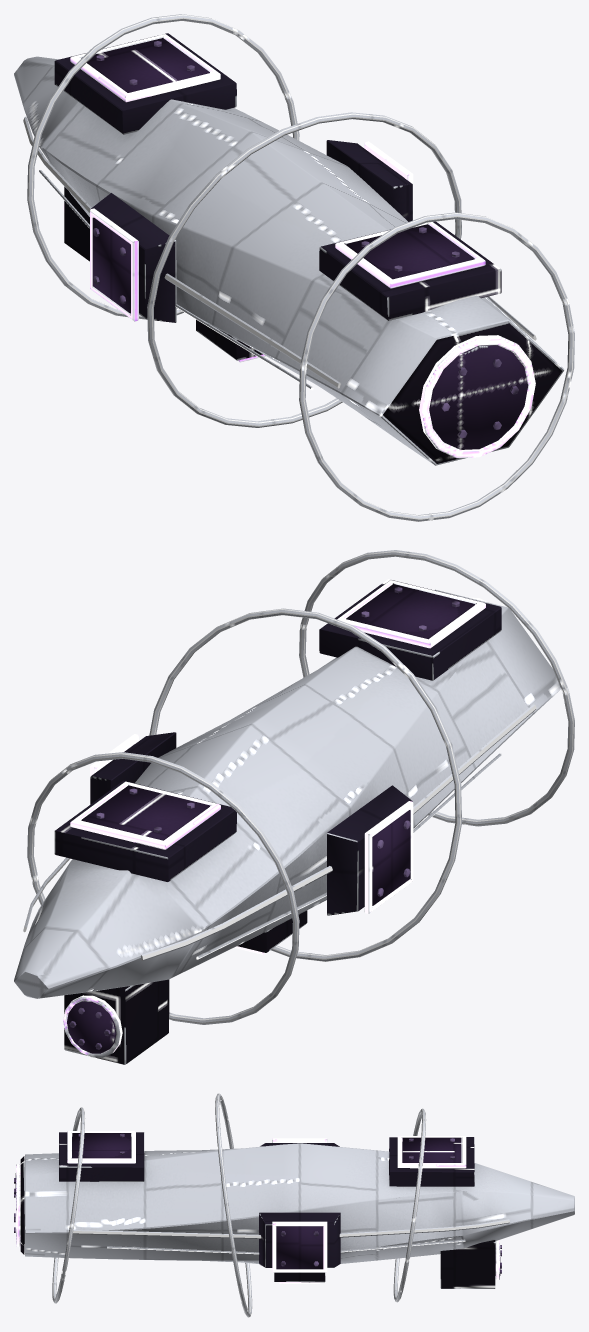
File: casco_prototipo_t5.fbx
3 views of the same model, one above another, from view 1: azimuth 30°, elevation 25°; view 2: azimuth 150°, elevation 25°; view 3: azimuth 270°, elevation 25° (orthographic). The views are drawn at different scales.
Parts seen in each view (by area): view 1: casco_prototipo_t5, casco_prototipo_t5_neon; view 2: casco_prototipo_t5, casco_prototipo_t5_neon; view 3: casco_prototipo_t5, casco_prototipo_t5_neon, casco_prototipo_t5_neon2.
Boxes of the visible parts, <box> form: casco_prototipo_t5: <box>14,14,574,521</box>; casco_prototipo_t5_neon: <box>23,14,573,521</box>; casco_prototipo_t5: <box>14,550,574,1064</box>; casco_prototipo_t5_neon: <box>23,551,574,1024</box>; casco_prototipo_t5: <box>14,1093,574,1317</box>; casco_prototipo_t5_neon: <box>52,1093,509,1317</box>; casco_prototipo_t5_neon2: <box>107,1241,465,1254</box>.
Bounding box in the file's own units: 6.57 × 6.5 × 16.31.
